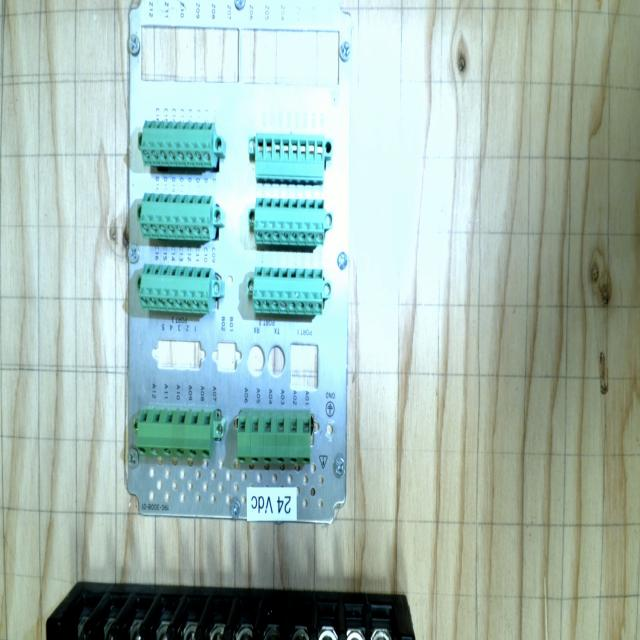Terminal_1: (136, 408, 213, 458), (237, 413, 311, 464)
Terminal_2: (138, 263, 212, 314), (140, 120, 214, 168), (139, 193, 213, 241), (252, 266, 324, 315), (253, 198, 325, 245)
